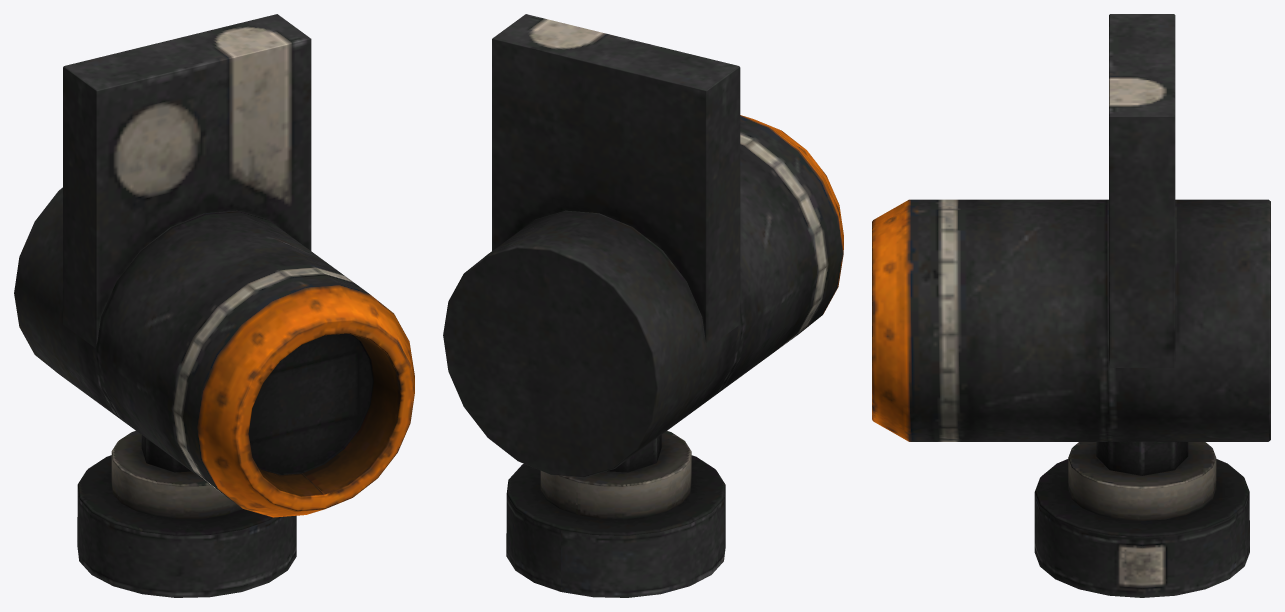
The model's file is pressuregauge.DAE.
3 renders of one model, left to right at view 1: azimuth 30°, elevation 25°; view 2: azimuth 150°, elevation 25°; view 3: azimuth 270°, elevation 25°, orthographic. The views are drawn at different scales.
Parts seen in each view (by area): view 1: pressuregauge; view 2: pressuregauge; view 3: pressuregauge.
Part boxes in pixels (<box>): pressuregauge: <box>14,14,414,597</box>; pressuregauge: <box>443,14,843,597</box>; pressuregauge: <box>872,14,1270,597</box>.
Bounding box in the file's own units: 0.1851 × 0.3025 × 0.408.
